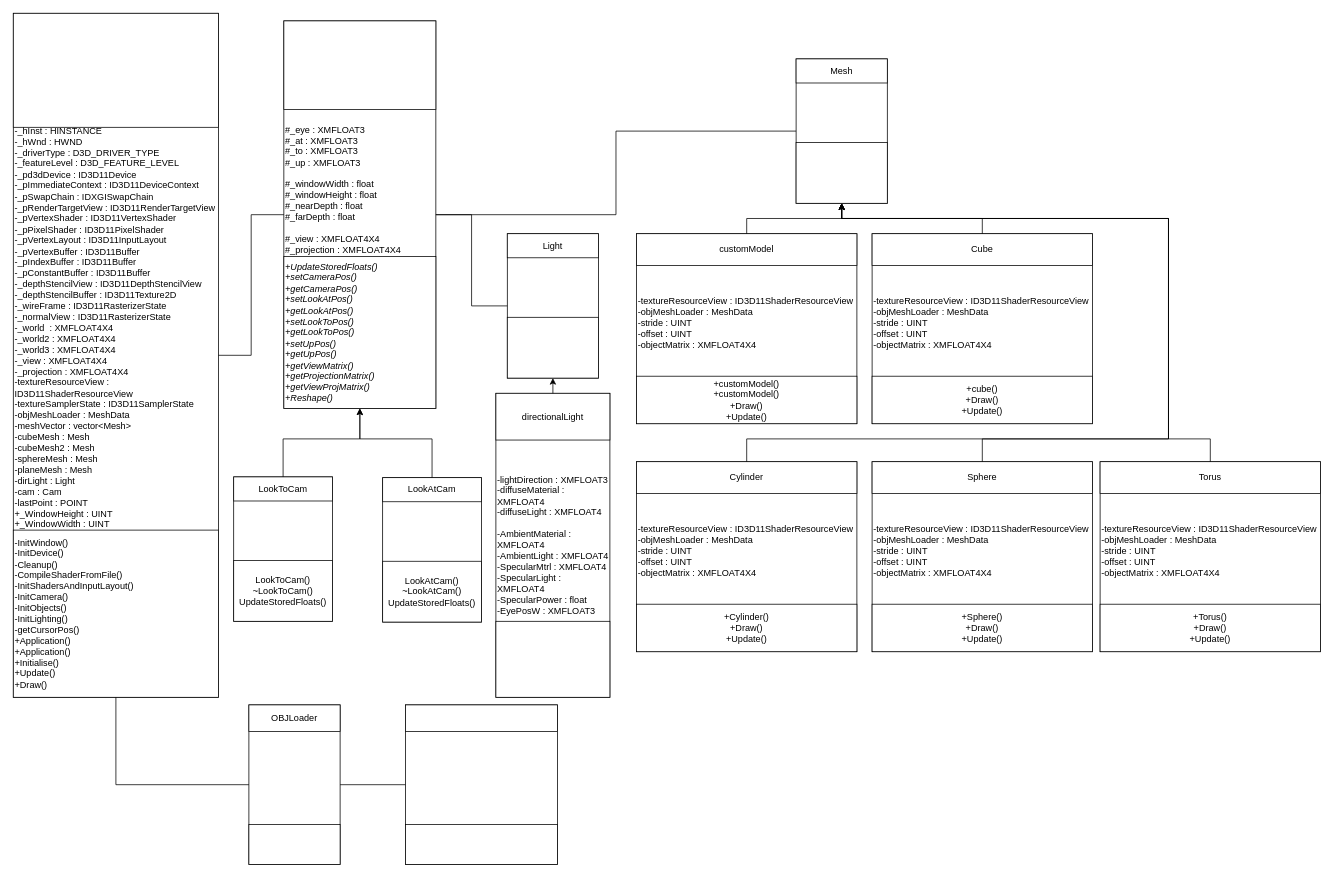
This 1334x878 diagram has some shape labels left out. Each missing label, with the centre of its shape:
"#Draw()" belongs at (x=552, y=347).
"#Draw() #Update()" belongs at (x=841, y=172).
"Application" belongs at (x=115, y=70).
"Cam" belongs at (x=359, y=64).
"CreateDDSTextureFromMemory() CreateTextureFromFile()" belongs at (x=481, y=844).
"DDSTextureLoader" belongs at (x=481, y=718).
"directionalLight() directionalLight() Draw()" belongs at (x=552, y=659).
"Load() FindSimilarVertex() CreateIndices()" belongs at (x=294, y=844).
